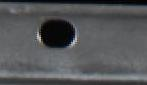holes: (37, 16, 78, 49)
